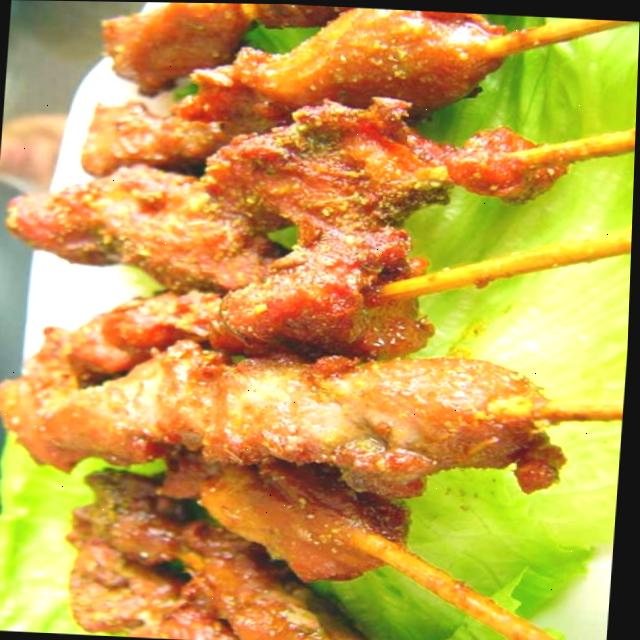烧串烤肉: (9, 6, 581, 640)
